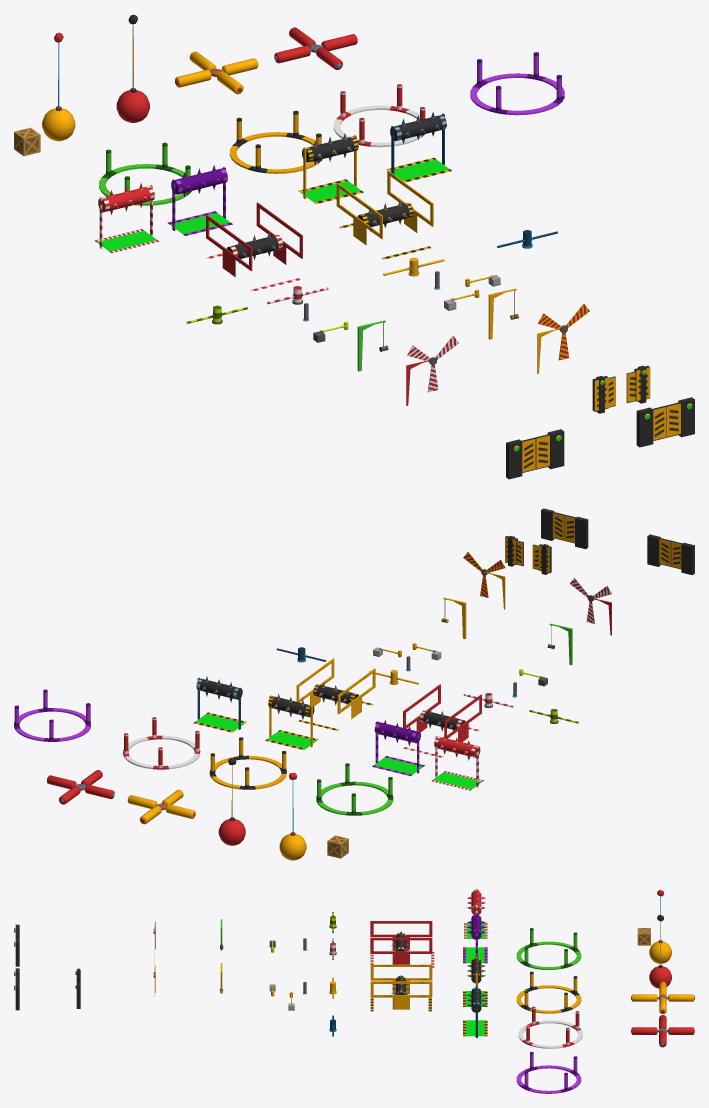
The model's file is HUrdles.FBX.
The picture shows the model from 3 angles, top to bottom: view 1: azimuth 30°, elevation 25°; view 2: azimuth 150°, elevation 25°; view 3: azimuth 270°, elevation 25°; orthographic projection. The views are drawn at different scales.
Parts seen in each view (by area): view 1: Tube007, Box112, Box139, Tube005, rotating_cross, rotating_cross01, Tube008, Tube006, pendulum, pendulum_1, Cylinder009, Cylinder027 (+4 smaller); view 2: Tube008, Tube006, Tube007, Tube005, Box112, rotating_cross, rotating_cross01, Box139, pendulum, pendulum_1, Cylinder038, Cylinder035 (+2 smaller); view 3: Box139, Box112, Tube007, Tube005, Tube006, Tube008, rotating_cross01, rotating_cross, pendulum, pendulum_1.
Boxes of the visible parts, x1=… form: Tube007: x1=470, y1=52, x2=564, y2=115; Box112: x1=336, y1=170, x2=433, y2=245; Box139: x1=206, y1=202, x2=302, y2=277; Tube005: x1=229, y1=111, x2=322, y2=173; rotating_cross: x1=175, y1=51, x2=258, y2=94; rotating_cross01: x1=274, y1=27, x2=357, y2=69; Tube008: x1=333, y1=84, x2=425, y2=147; Tube006: x1=99, y1=142, x2=191, y2=205; pendulum: x1=42, y1=32, x2=75, y2=141; pendulum_1: x1=116, y1=14, x2=149, y2=122; Cylinder009: x1=302, y1=133, x2=358, y2=165; Cylinder027: x1=171, y1=165, x2=227, y2=197; Tube008: x1=123, y1=717, x2=200, y2=769; Tube006: x1=316, y1=763, x2=393, y2=815; Tube007: x1=14, y1=689, x2=90, y2=741; Tube005: x1=209, y1=737, x2=286, y2=789; Box112: x1=296, y1=658, x2=375, y2=719; rotating_cross: x1=127, y1=789, x2=195, y2=824; rotating_cross01: x1=47, y1=770, x2=114, y2=804; Box139: x1=403, y1=684, x2=481, y2=741; pendulum: x1=279, y1=773, x2=306, y2=860; pendulum_1: x1=218, y1=758, x2=245, y2=845; Cylinder038: x1=196, y1=676, x2=242, y2=702; Cylinder035: x1=434, y1=734, x2=480, y2=760; Box139: x1=370, y1=921, x2=432, y2=964; Box112: x1=370, y1=964, x2=432, y2=1009; Tube007: x1=516, y1=1052, x2=581, y2=1093; Tube005: x1=516, y1=971, x2=581, y2=1013; Tube006: x1=516, y1=928, x2=581, y2=969; Tube008: x1=518, y1=1006, x2=582, y2=1048; rotating_cross01: x1=631, y1=1015, x2=694, y2=1047; rotating_cross: x1=631, y1=982, x2=694, y2=1013; pendulum: x1=649, y1=890, x2=671, y2=963; pendulum_1: x1=649, y1=915, x2=671, y2=988.
Size of the model in its own units: 189 by 36.13 by 308.
